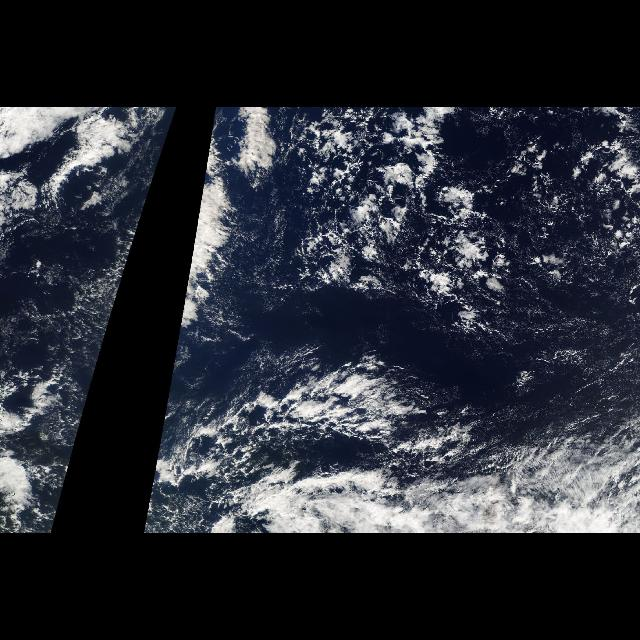Fish: (152, 110, 502, 503), (134, 110, 176, 244)
Flower: (296, 159, 640, 367)
Gravel: (280, 108, 586, 340)
Sugar: (490, 222, 638, 434)
